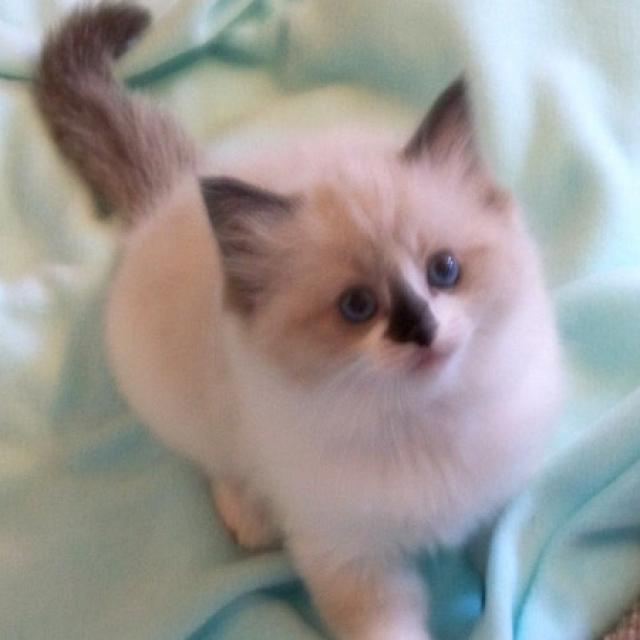Ragdoll: (33, 0, 569, 640)
